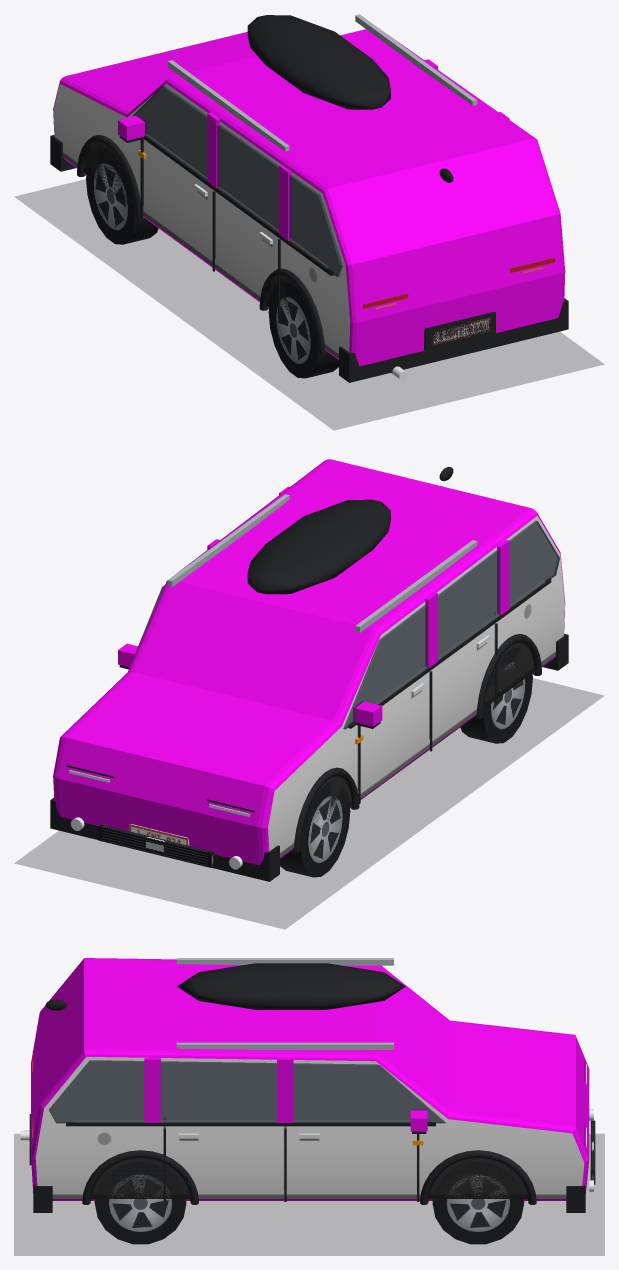
The model's file is car-suv.obj.
3 renders of one model, top to bottom at view 1: azimuth 30°, elevation 25°; view 2: azimuth 150°, elevation 25°; view 3: azimuth 270°, elevation 25°, orthographic. The views are drawn at different scales.
Parts seen in each view (by area): view 1: body, shadowpad.nocast, part1.nocast, opt.roofbox, part12, part13, part34, part59.nocast, part41.nocast, part40.nocast, part43.nocast, part42.nocast (+5 smaller); view 2: body, shadowpad.nocast, part1.nocast, opt.roofbox, part12, part13, part54.nocast, part33, part41.nocast, part40.nocast, part42.nocast, part43.nocast (+4 smaller); view 3: body, shadowpad.nocast, part1.nocast, opt.roofbox, part15, part14, part41.nocast, part40.nocast, part11.nocast, part44.nocast, part45.nocast, part9 (+5 smaller).
Boxes of the visible parts, box(x1,y1,x2,y2) form: body: box(53, 29, 565, 366); shadowpad.nocast: box(15, 179, 604, 429); part1.nocast: box(133, 85, 342, 276); opt.roofbox: box(247, 15, 390, 109); part12: box(86, 148, 158, 244); part13: box(268, 282, 338, 378); part34: box(339, 298, 568, 382); part59.nocast: box(424, 311, 495, 350); part41.nocast: box(355, 14, 477, 105); part40.nocast: box(167, 60, 289, 151); part43.nocast: box(259, 268, 326, 353); part42.nocast: box(77, 135, 144, 219); body: box(53, 459, 565, 865); shadowpad.nocast: box(14, 678, 603, 928); part1.nocast: box(129, 520, 559, 729); opt.roofbox: box(247, 499, 390, 594); part12: box(280, 782, 350, 877); part13: box(460, 647, 532, 743); part54.nocast: box(98, 824, 213, 867); part33: box(50, 797, 279, 881); part41.nocast: box(167, 494, 289, 586); part40.nocast: box(355, 540, 477, 632); part42.nocast: box(292, 767, 359, 852); part43.nocast: box(474, 634, 541, 718); body: box(31, 958, 589, 1200); shadowpad.nocast: box(14, 1134, 604, 1255); part1.nocast: box(49, 1060, 445, 1123); opt.roofbox: box(177, 963, 405, 1009); part15: box(94, 1162, 186, 1244); part14: box(432, 1162, 524, 1244); part41.nocast: box(176, 1042, 393, 1049); part40.nocast: box(176, 958, 393, 965); part11.nocast: box(66, 1122, 435, 1126); part44.nocast: box(420, 1150, 536, 1204); part45.nocast: box(82, 1150, 198, 1204); part9: box(277, 1057, 293, 1122).
Size of the model in its own units: 2.4 by 2.05 by 4.9.
